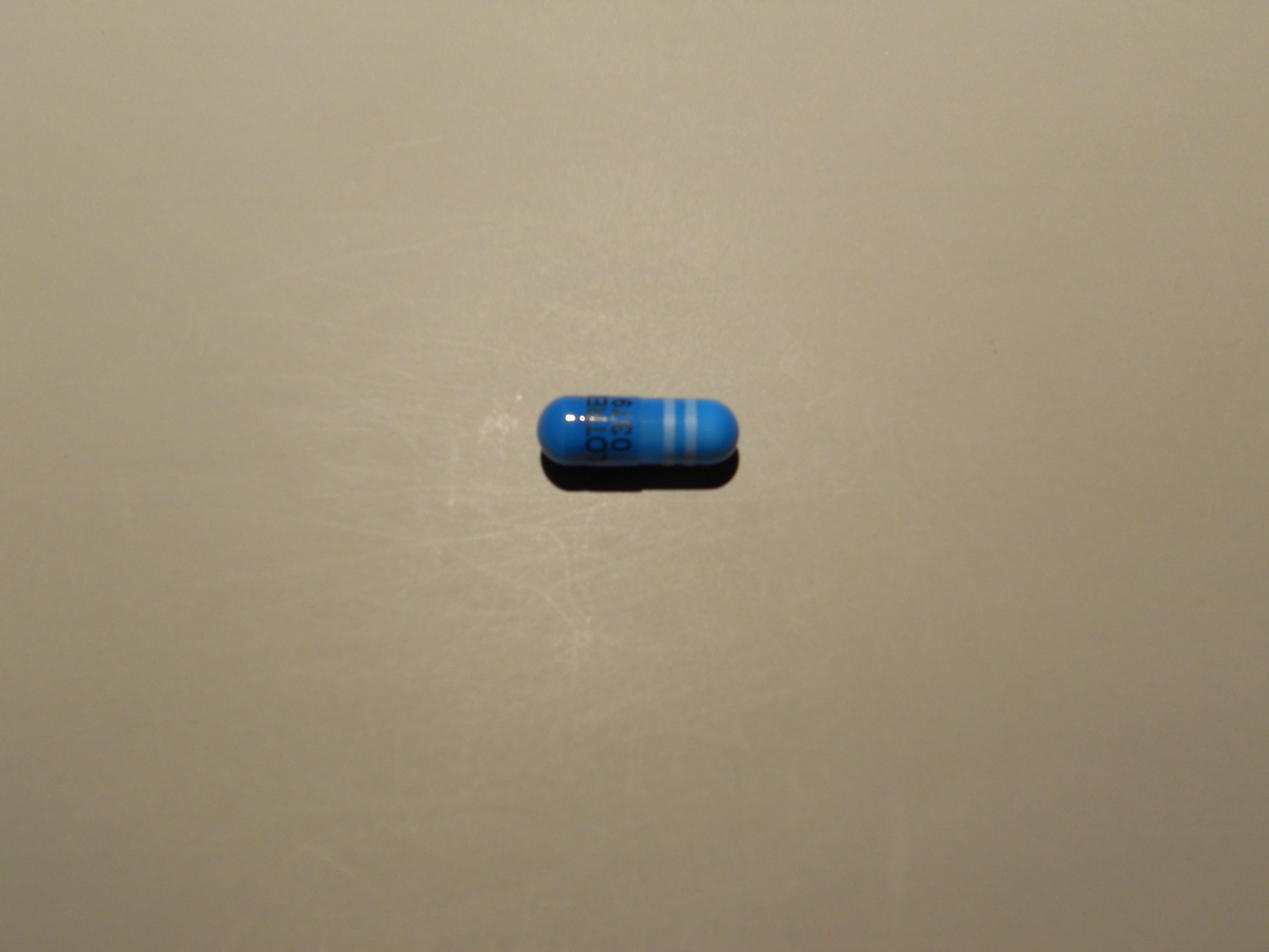Pill: (530, 387, 744, 473)
